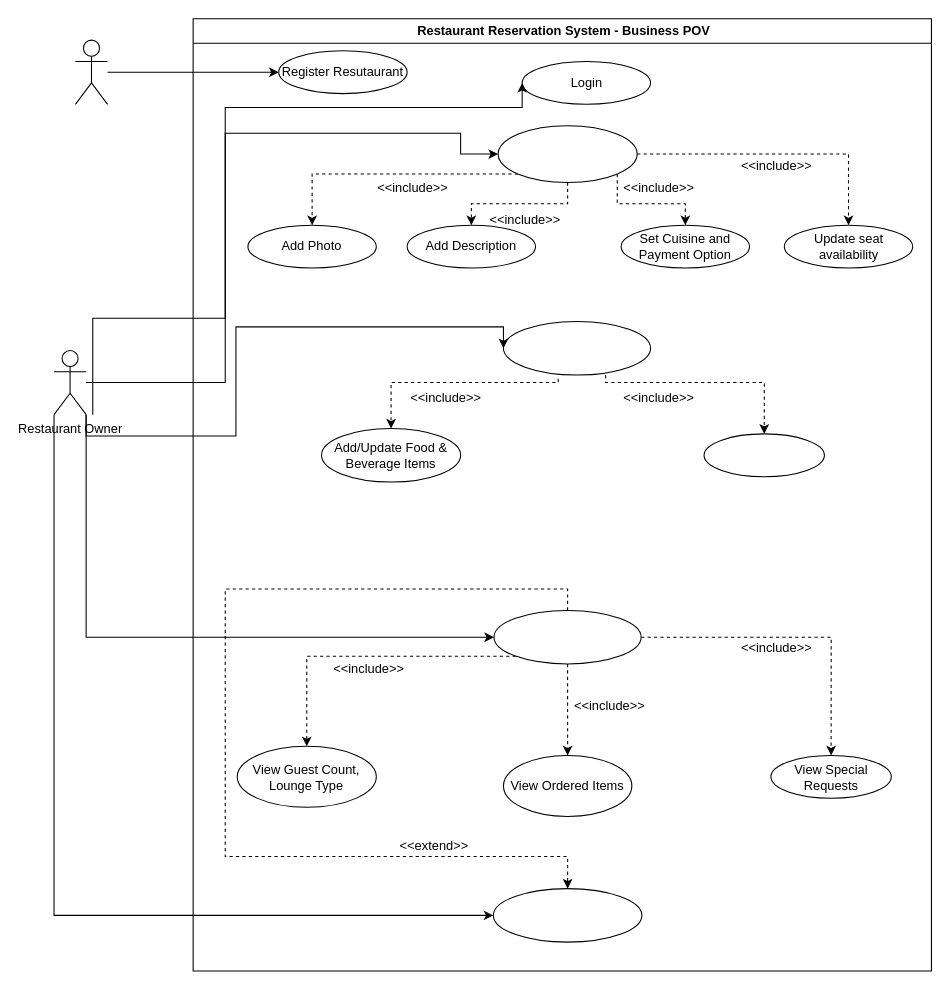
The diagram is 950 pixels wide and 990 high, and some of its shapes have lost their labels. Each missing label, with the centre of its shape:
"Manage menu" goes at pixel 576 347.
"Manage Restaurant Profile" goes at pixel 567 153.
"Manage Reviews / Ratings" goes at pixel 567 915.
"New Business" goes at pixel 91 71.
"Set Prices" goes at pixel 763 455.
"View Reservations" goes at pixel 567 636.
